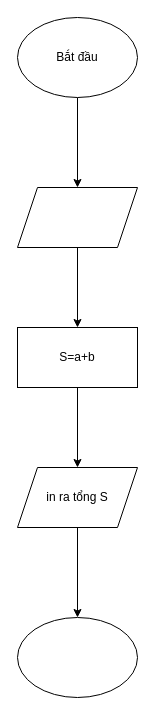
Image size: 155x715. Some labels were removed from this diagram. Each missing label, with the centre of its shape:
Kết thúc: (77,657)
Nhập vào 2 số a,b: (77,217)
